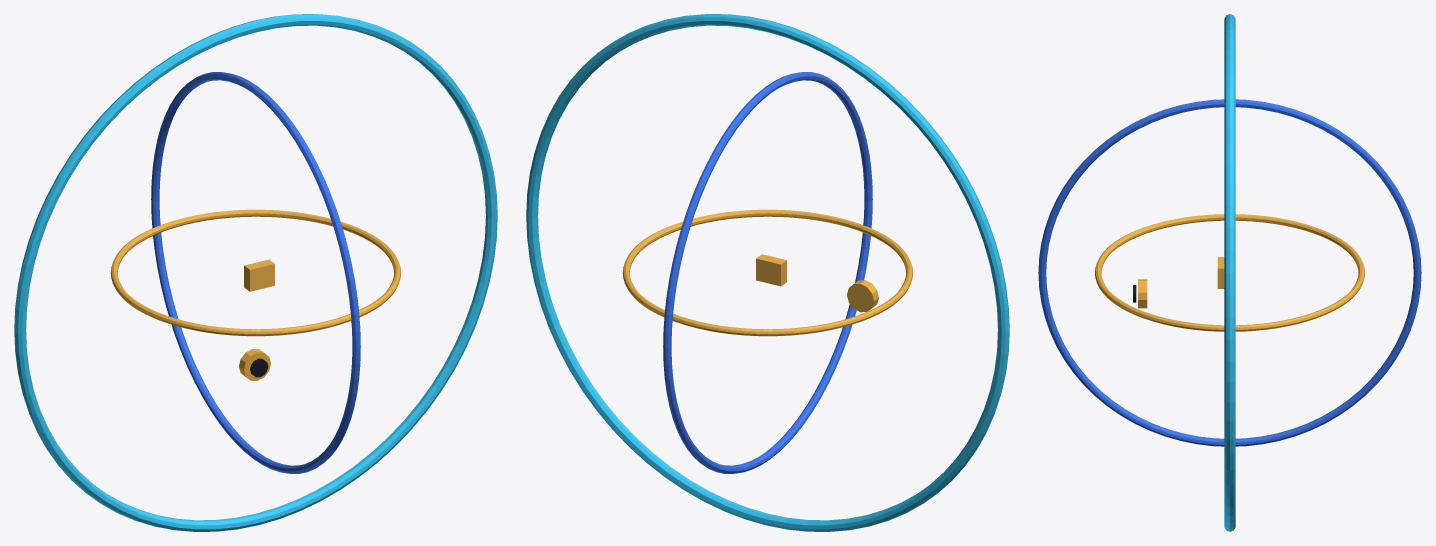
The model's file is 45_L84_HolographicQuaternionAttitudeSphere.fbx.
3 views of the same model, side by side, from view 1: azimuth 30°, elevation 25°; view 2: azimuth 150°, elevation 25°; view 3: azimuth 270°, elevation 25° (orthographic). The views are drawn at different scales.
Visible parts, largest first — view 1: L84_HolographicQuaternionAttitudeSphere, L84_HolographicQuaternionAttitudeSphere_Part_0003; view 2: L84_HolographicQuaternionAttitudeSphere, L84_HolographicQuaternionAttitudeSphere_Part_0003, L84_HolographicQuaternionAttitudeSphere_Part_0004; view 3: L84_HolographicQuaternionAttitudeSphere.
Part boxes in pixels (<box>): L84_HolographicQuaternionAttitudeSphere: <box>14,14,497,531</box>; L84_HolographicQuaternionAttitudeSphere_Part_0003: <box>244,259,274,291</box>; L84_HolographicQuaternionAttitudeSphere: <box>526,14,1009,531</box>; L84_HolographicQuaternionAttitudeSphere_Part_0003: <box>756,254,786,286</box>; L84_HolographicQuaternionAttitudeSphere_Part_0004: <box>847,280,878,312</box>; L84_HolographicQuaternionAttitudeSphere: <box>1038,14,1421,531</box>.
Size of the model in its own units: 231 by 231 by 171.
